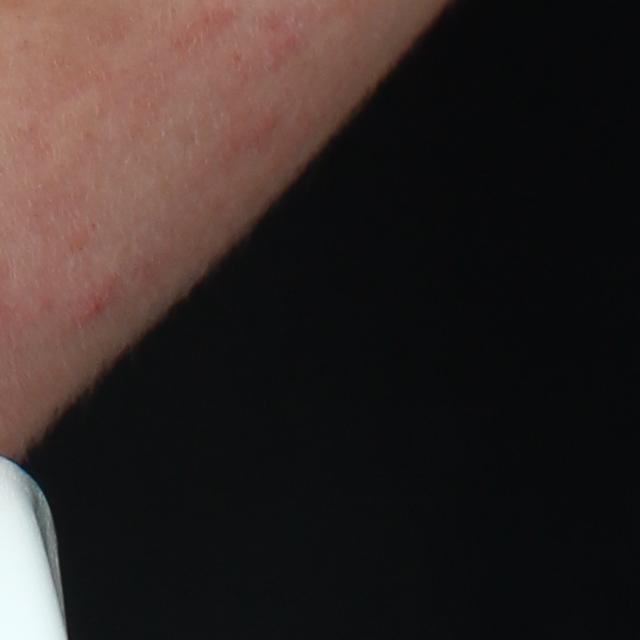papule: (80, 288, 112, 323)
